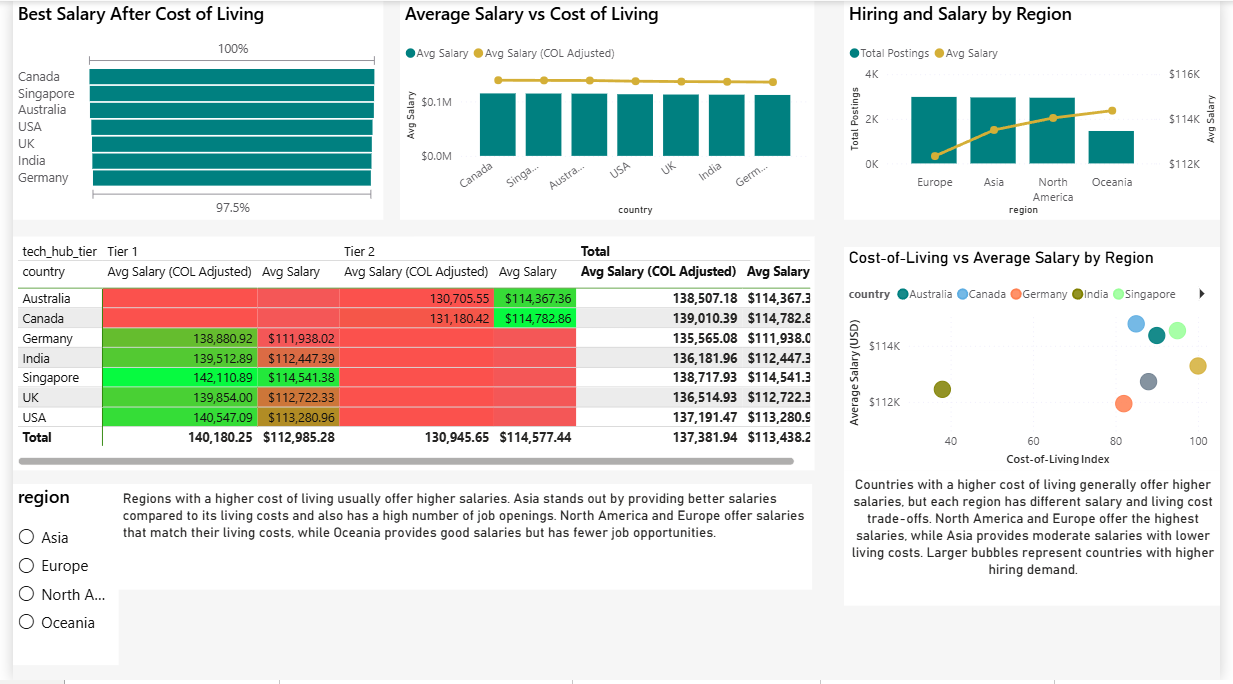

What the dashboard file says about the page in this screenshot:
{"tool":"powerbi","page":{"name":"Beyond the Paycheck","canvas":[1280,720],"ordinal":4},"visuals":[{"type":"lineClusteredColumnComboChart","title":"Average Salary vs Cost of Living","fields":{"Category":["AI Job Market Dataset.country"],"Y":["AI Job Market Dataset.Avg Salary"],"Y2":["AI Job Market Dataset.Avg Salary (COL Adjusted)"]},"box":[410.4,0,439,232.2],"z":0},{"type":"funnel","title":"Best Salary After Cost of Living","fields":{"Category":["AI Job Market Dataset.country"],"Y":["AI Job Market Dataset.Avg Salary (COL Adjusted)"]},"box":[0,0,392.9,232.2],"z":1000},{"type":"lineClusteredColumnComboChart","title":"Hiring and Salary by Region","fields":{"Category":["dim_country.region"],"Y":["AI Job Market Dataset.Total Postings"],"Y2":["AI Job Market Dataset.Avg Salary"]},"box":[881.2,0,399.2,232.2],"z":2000},{"type":"pivotTable","fields":{"Rows":["AI Job Market Dataset.country"],"Columns":["dim_country.tech_hub_tier","dim_country.avg_corporate_tax_rate"],"Values":["AI Job Market Dataset.Avg Salary (COL Adjusted)","AI Job Market Dataset.Avg Salary"]},"box":[0,249.4,850.1,247.7],"z":3000},{"type":"listSlicer","fields":{"Values":["dim_country.region"]},"box":[0,512,112,192],"z":4000},{"type":"scatterChart","title":"Cost‑of‑Living vs Average Salary by Region","fields":{"X":["dim_country.avg_cost_of_living_index"],"Y":["AI Job Market Dataset.Avg Salary"],"Size":["AI Job Market Dataset.Total Postings"],"Series":["AI Job Market Dataset.country"]},"box":[881.2,260.9,399.2,237],"z":5000},{"type":"textbox","box":[881.2,497.9,400.8,143.2],"z":6000},{"type":"textbox","box":[112,512,736,112],"z":7000}]}

Visuals, with their boxes in screenshot pixels (x1, y1, x2, y2), scaled from the page's 1280x720 canvas onto the 1233x684 screenshot:
"Average Salary vs Cost of Living" lineClusteredColumnComboChart: (395,0,818,221)
"Best Salary After Cost of Living" funnel: (0,0,378,221)
"Hiring and Salary by Region" lineClusteredColumnComboChart: (849,0,1232,221)
pivotTable - AI Job Market Dataset.country x dim_country.tech_hub_tier: (0,237,819,472)
listSlicer - dim_country.region: (0,486,108,669)
"Cost‑of‑Living vs Average Salary by Region" scatterChart: (849,248,1232,473)
textbox: (849,473,1232,609)
textbox: (108,486,817,593)
